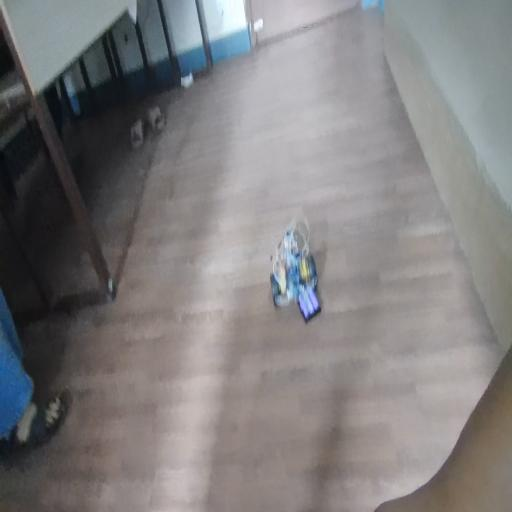car: (261, 221, 341, 317)
